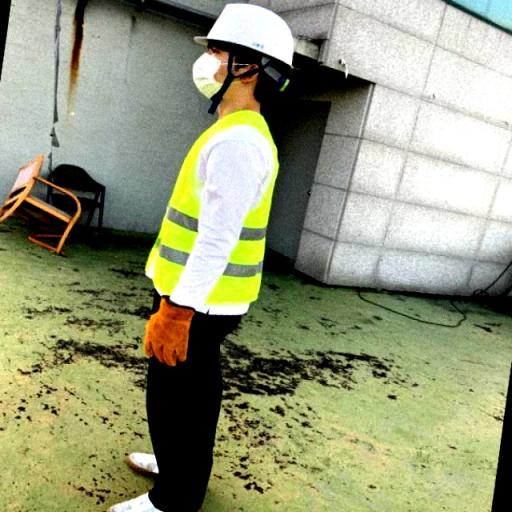Person: (73, 1, 324, 508)
gloves: (140, 298, 198, 370)
helmet: (188, 4, 298, 66)
vest: (140, 110, 280, 318)
